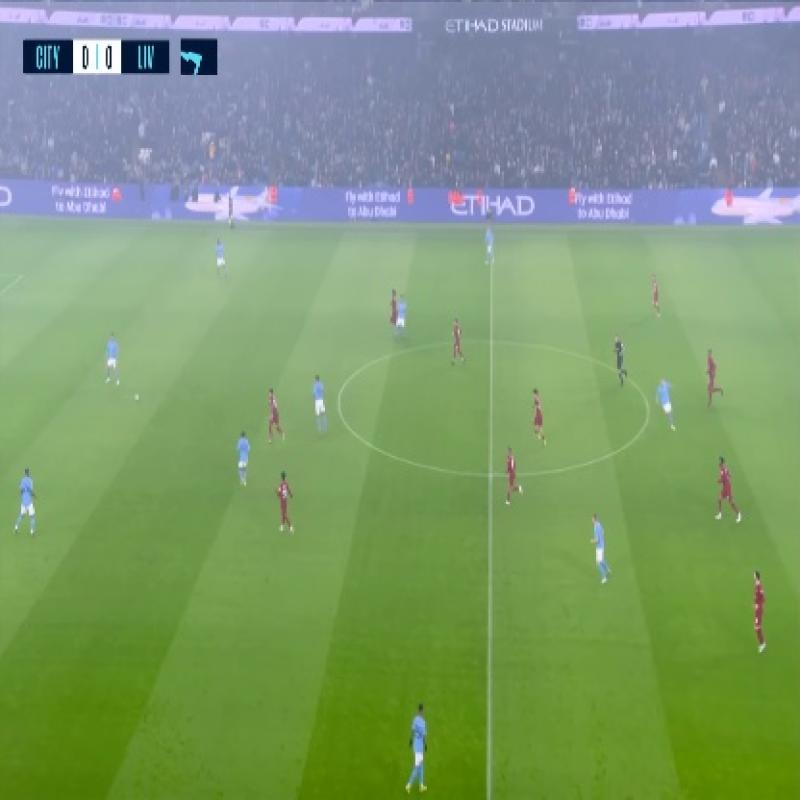14: (479, 327, 502, 354)
15: (477, 456, 502, 488)
9: (7, 260, 34, 292)
c: (326, 389, 352, 416), (640, 398, 658, 424)
